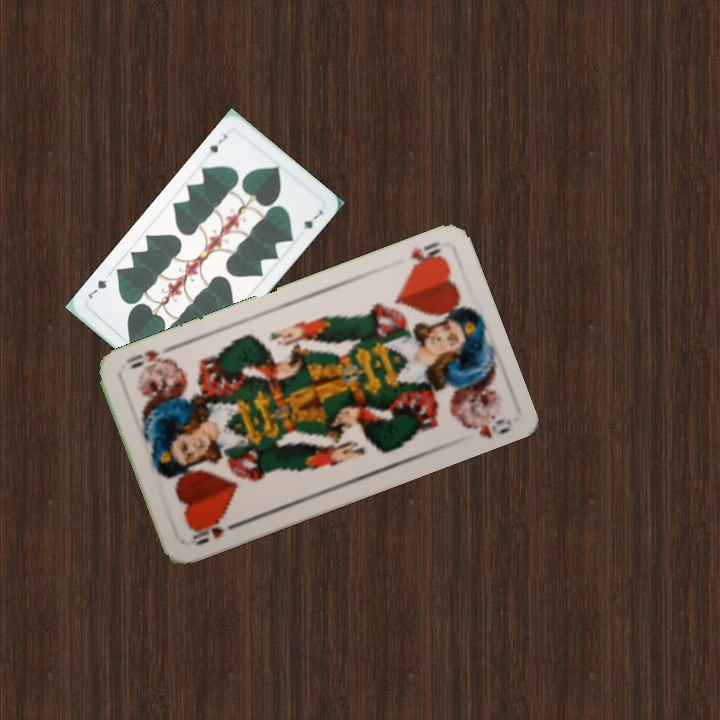G7: (202, 130, 230, 159)
HO: (186, 513, 241, 549), (406, 237, 447, 273)
